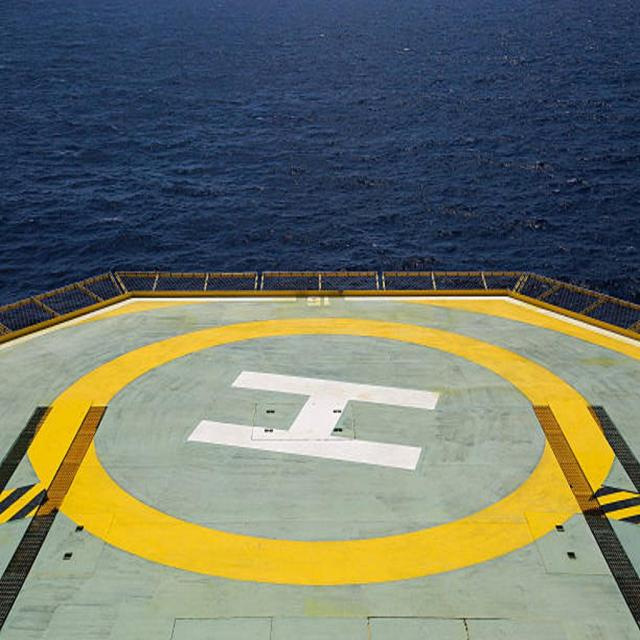helipad: (26, 315, 616, 585)
